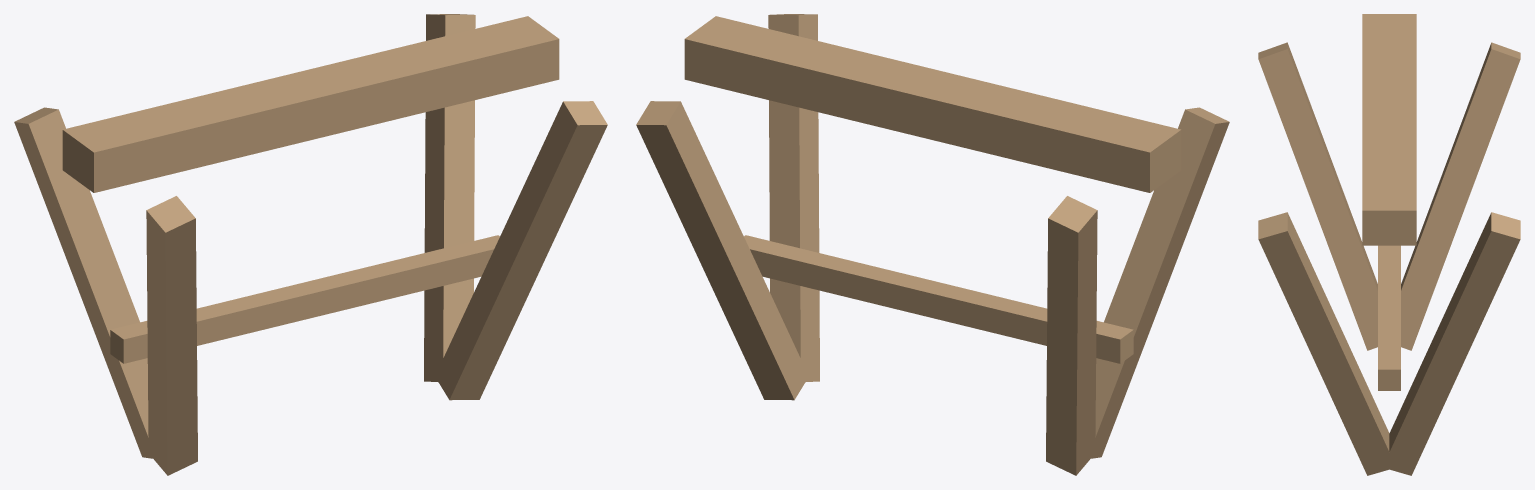
File: Sawhorse.gltf
The picture shows the model from 3 angles, left to right: view 1: azimuth 30°, elevation 25°; view 2: azimuth 150°, elevation 25°; view 3: azimuth 270°, elevation 25°; orthographic projection. The views are drawn at different scales.
Visible parts, largest first — view 1: Sawhorse; view 2: Sawhorse; view 3: Sawhorse.
Part boxes in pixels (x1,y1,x2,y2): Sawhorse: [14, 14, 607, 475]; Sawhorse: [636, 14, 1229, 475]; Sawhorse: [1258, 14, 1520, 475].
Bounding box in the file's own units: 1.2 × 0.848 × 0.6763.
